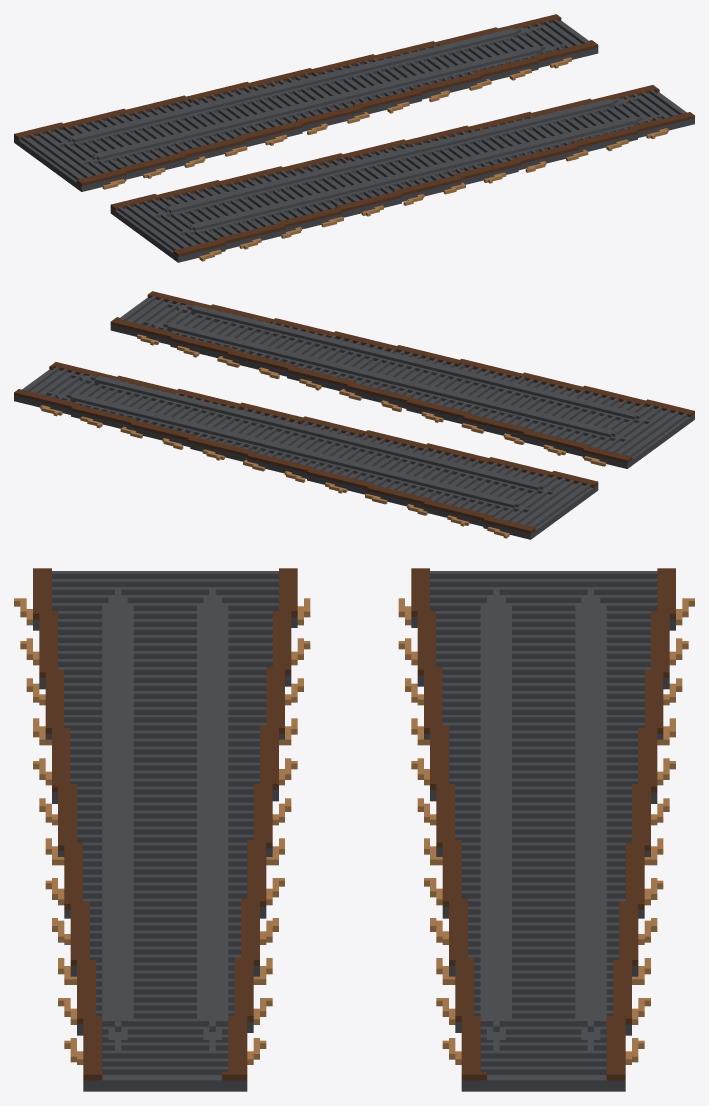
The model's file is ch_chainmail_half_legs.glb.
The picture shows the model from 3 angles, top to bottom: view 1: azimuth 30°, elevation 25°; view 2: azimuth 150°, elevation 25°; view 3: azimuth 270°, elevation 25°; orthographic projection. The views are drawn at different scales.
Visible parts, largest first — view 1: ch_chainmail_half_legs:compound; view 2: ch_chainmail_half_legs:compound; view 3: ch_chainmail_half_legs:compound.
Boxes of the visible parts, x1,y1,x2,y2 form: ch_chainmail_half_legs:compound: (14,14,694,262); ch_chainmail_half_legs:compound: (14,291,694,539); ch_chainmail_half_legs:compound: (14,568,694,1091).
Size of the model in its own units: 0.76 by 0.016 by 0.432.
